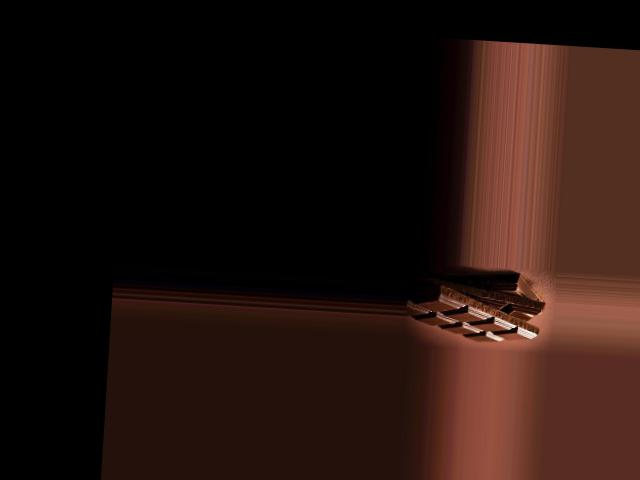chocolate: (408, 275, 545, 344)
